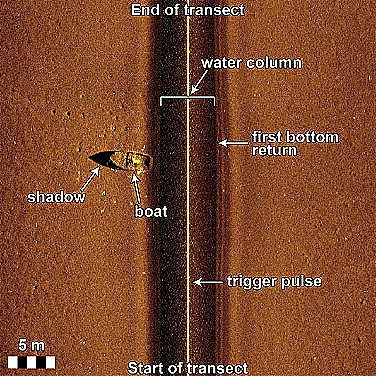ship: (105, 149, 156, 175)
